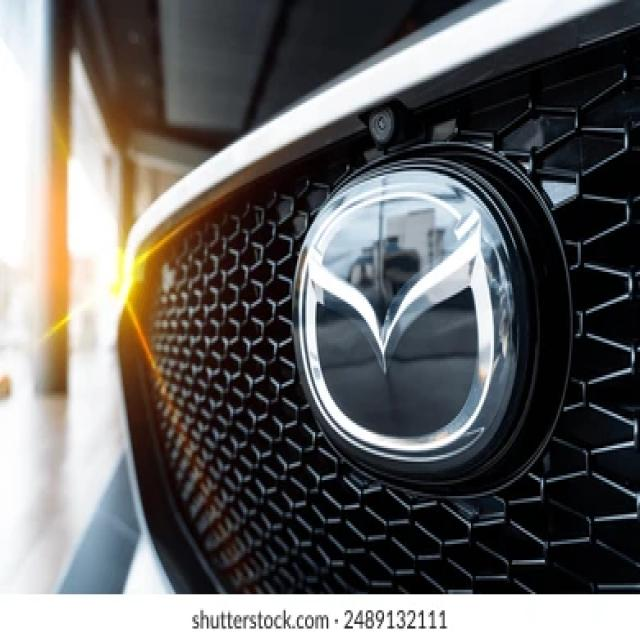mazda: (292, 192, 518, 462)
